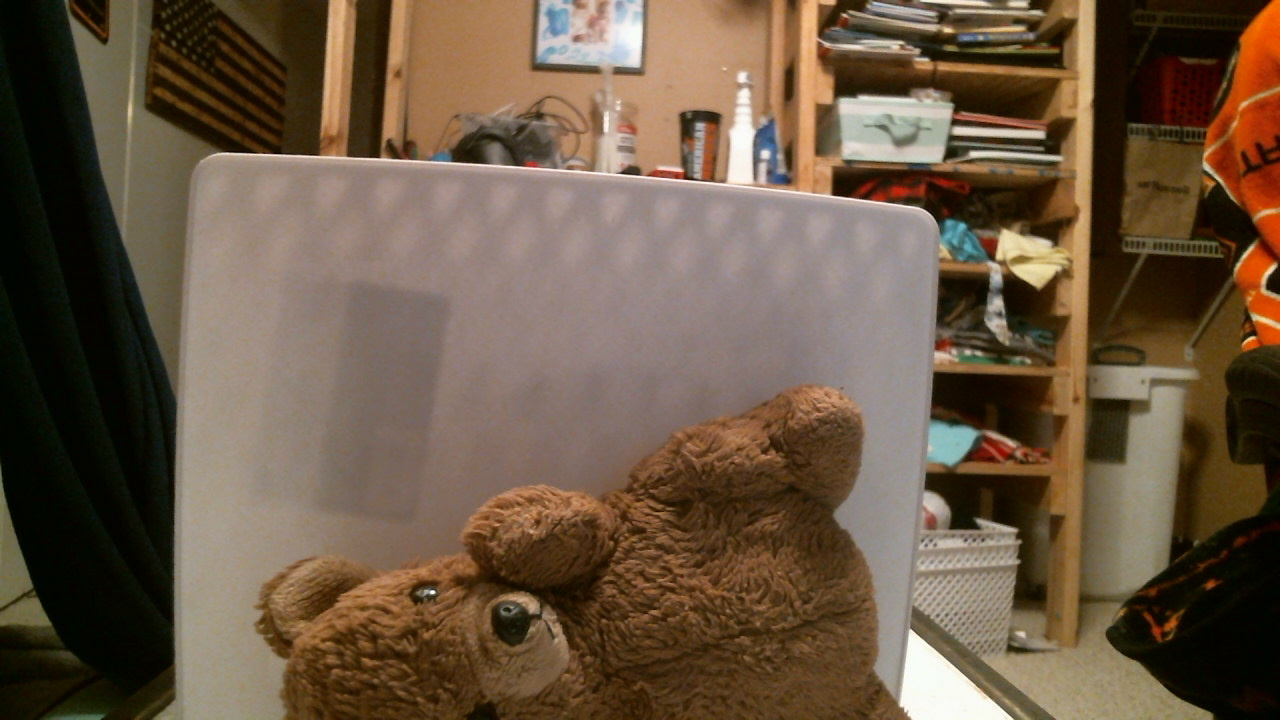Little_Mister_Bear: (400, 587, 570, 720)
